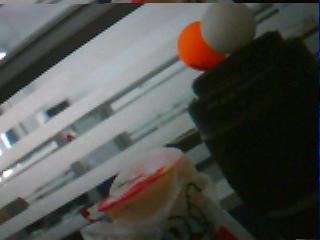oball: (179, 20, 218, 69)
